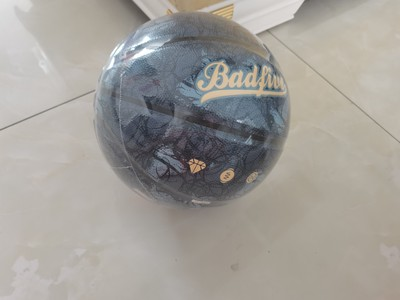ball: (95, 12, 290, 208)
